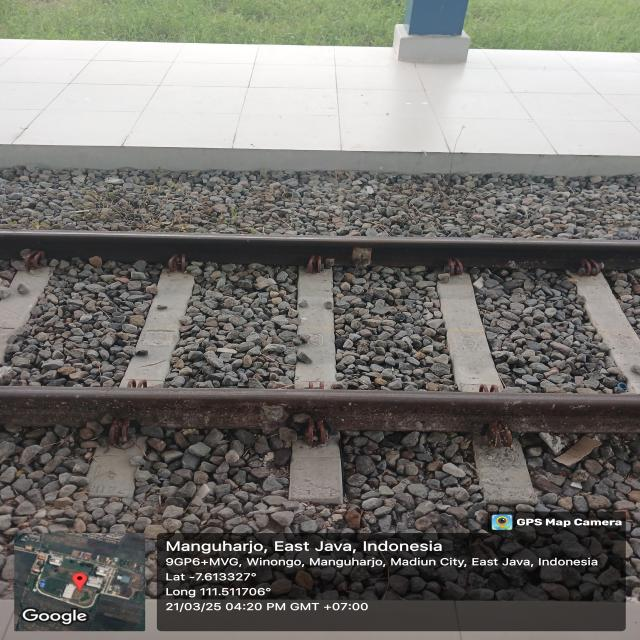rail-detection: (0, 388, 640, 434), (0, 230, 640, 270)
